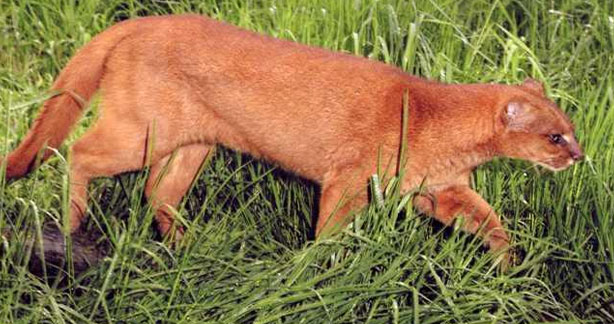Jaguarundi: (7, 12, 588, 267)
